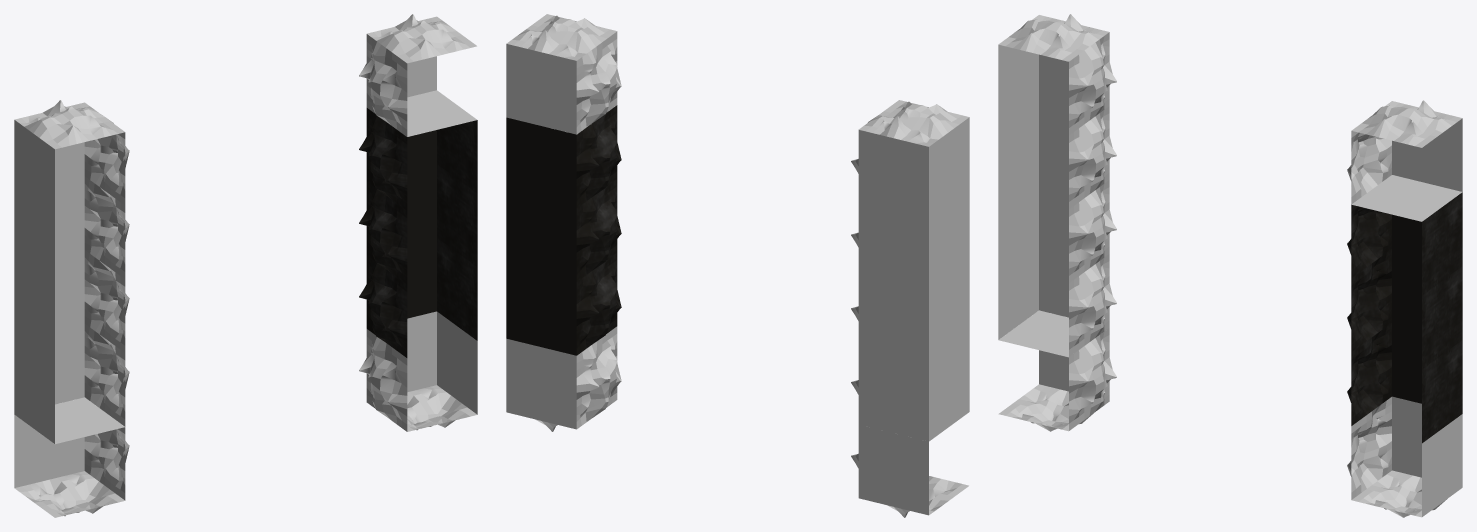
Rendered from Cubi_Corridor5to8.fbx.
3 renders of one model, left to right at view 1: azimuth 30°, elevation 25°; view 2: azimuth 150°, elevation 25°; view 3: azimuth 330°, elevation 25°, orthographic.
Visible parts, largest first — view 1: Cubes_Corridor5to8; view 2: Cubes_Corridor5to8; view 3: Cubes_Corridor5to8.
Part boxes in pixels (box(x1,y1,x2,y2)): Cubes_Corridor5to8: box(14, 14, 477, 517); Cubes_Corridor5to8: box(506, 14, 969, 517); Cubes_Corridor5to8: box(998, 14, 1462, 517).
Bounding box in the file's own units: 600 × 545 × 100.
